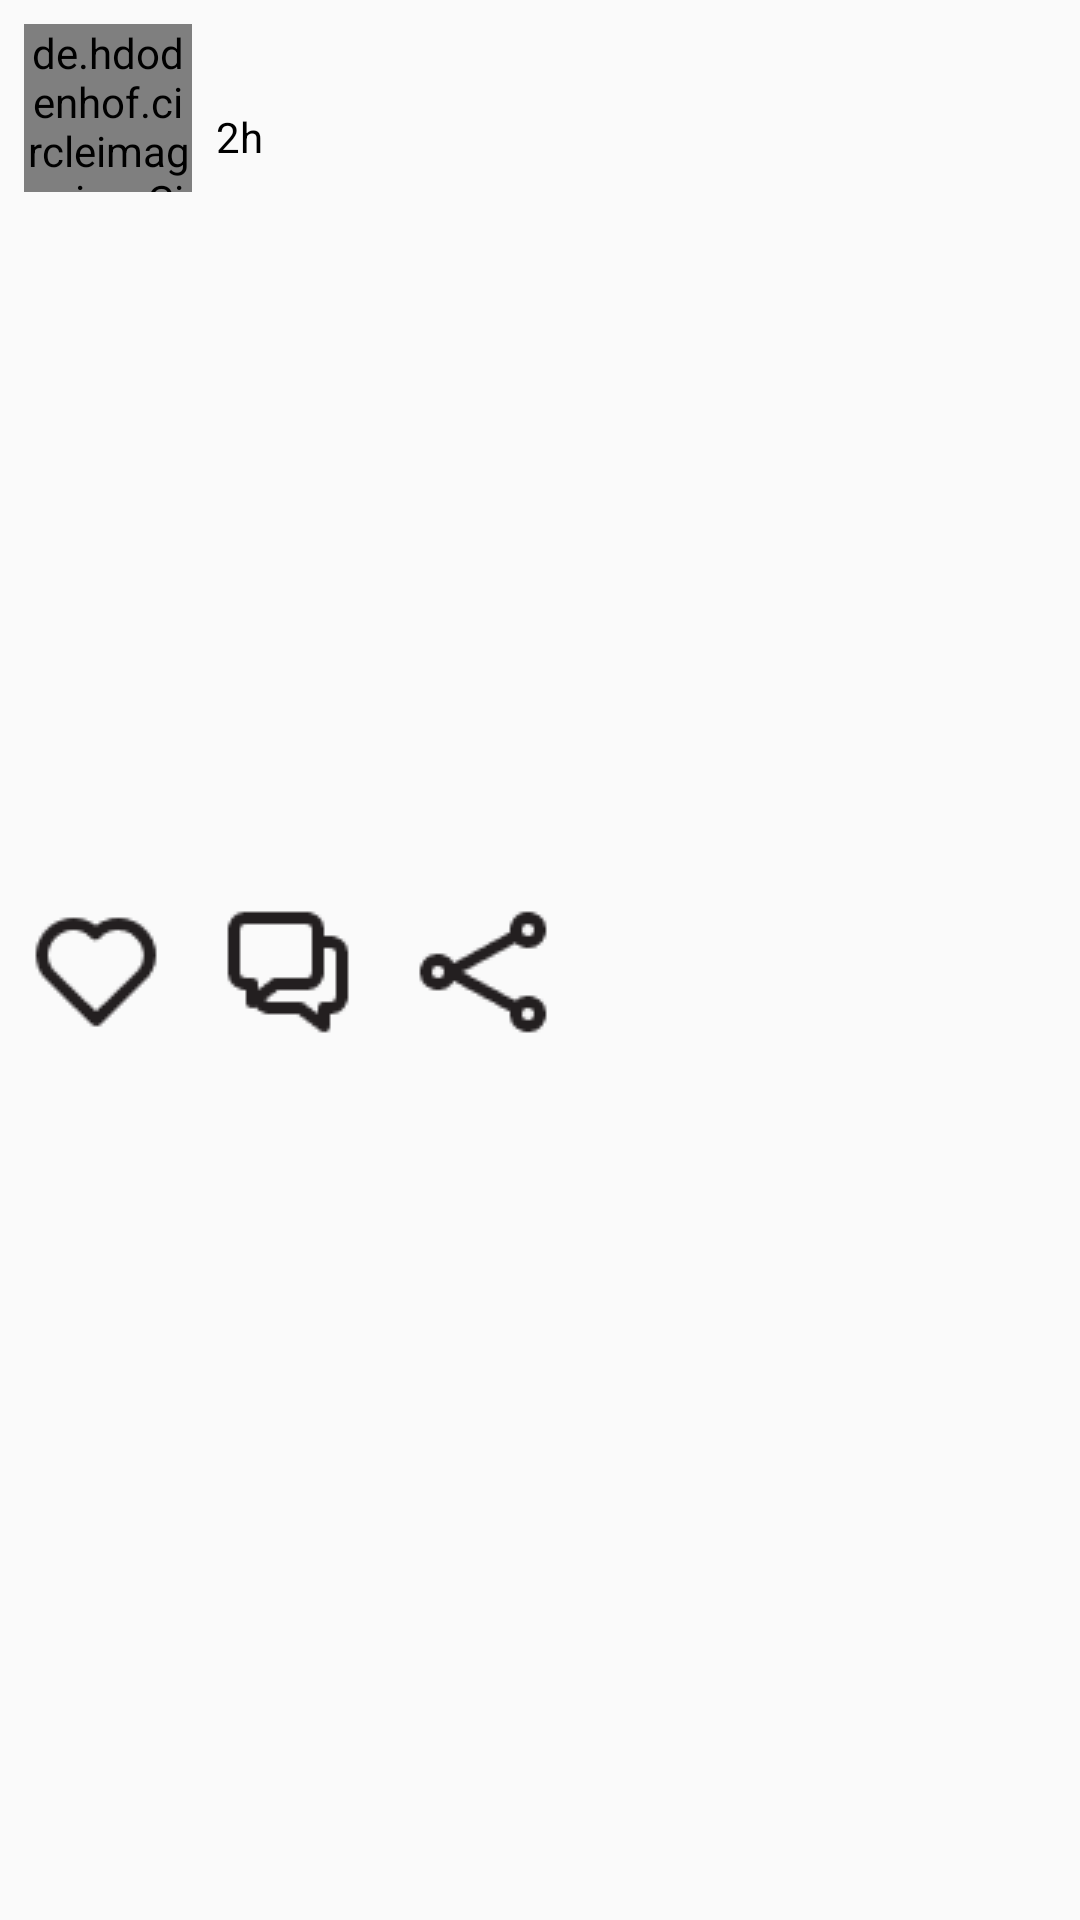

Locate icon controls on the screen. Image size 1080*1920, boxes as box(x1, y1, x2, y2).
commenticon: box(227, 911, 349, 1033)
likeheart: box(35, 917, 157, 1027)
shareicon: box(419, 911, 547, 1033)
